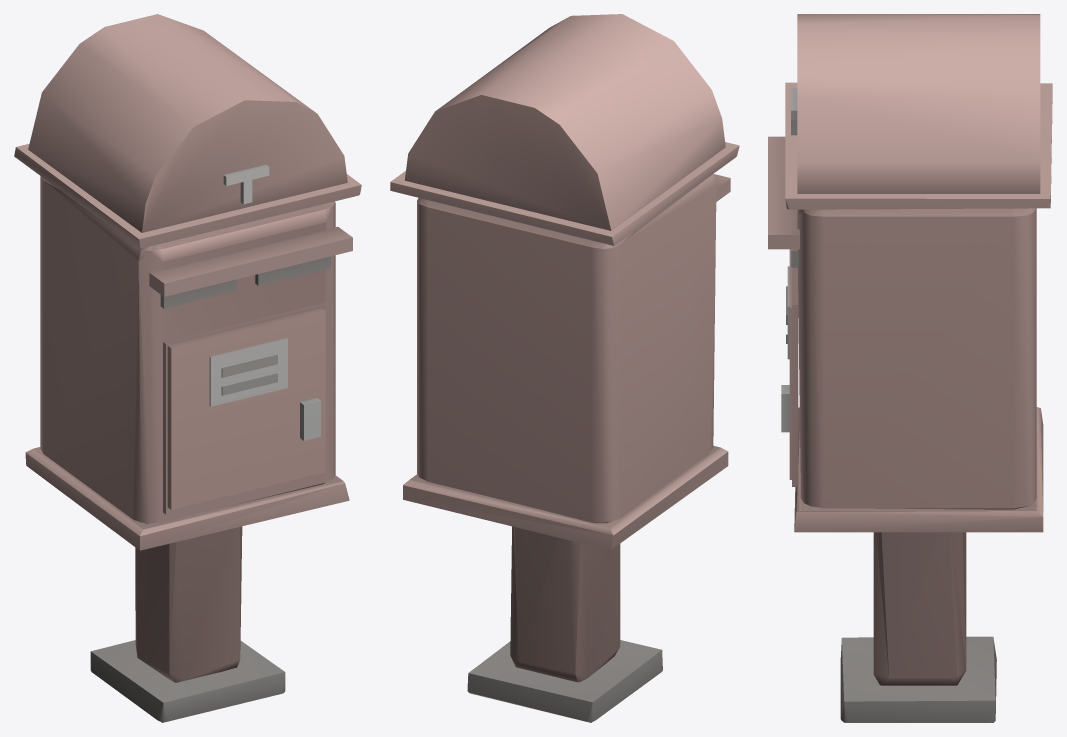
Rendered from postbox.lod1.glb.
3 views of the same model, side by side, from view 1: azimuth 30°, elevation 25°; view 2: azimuth 150°, elevation 25°; view 3: azimuth 270°, elevation 25° (orthographic). The views are drawn at different scales.
Size of the model in its own units: 0.522 by 1.39 by 0.5386.
